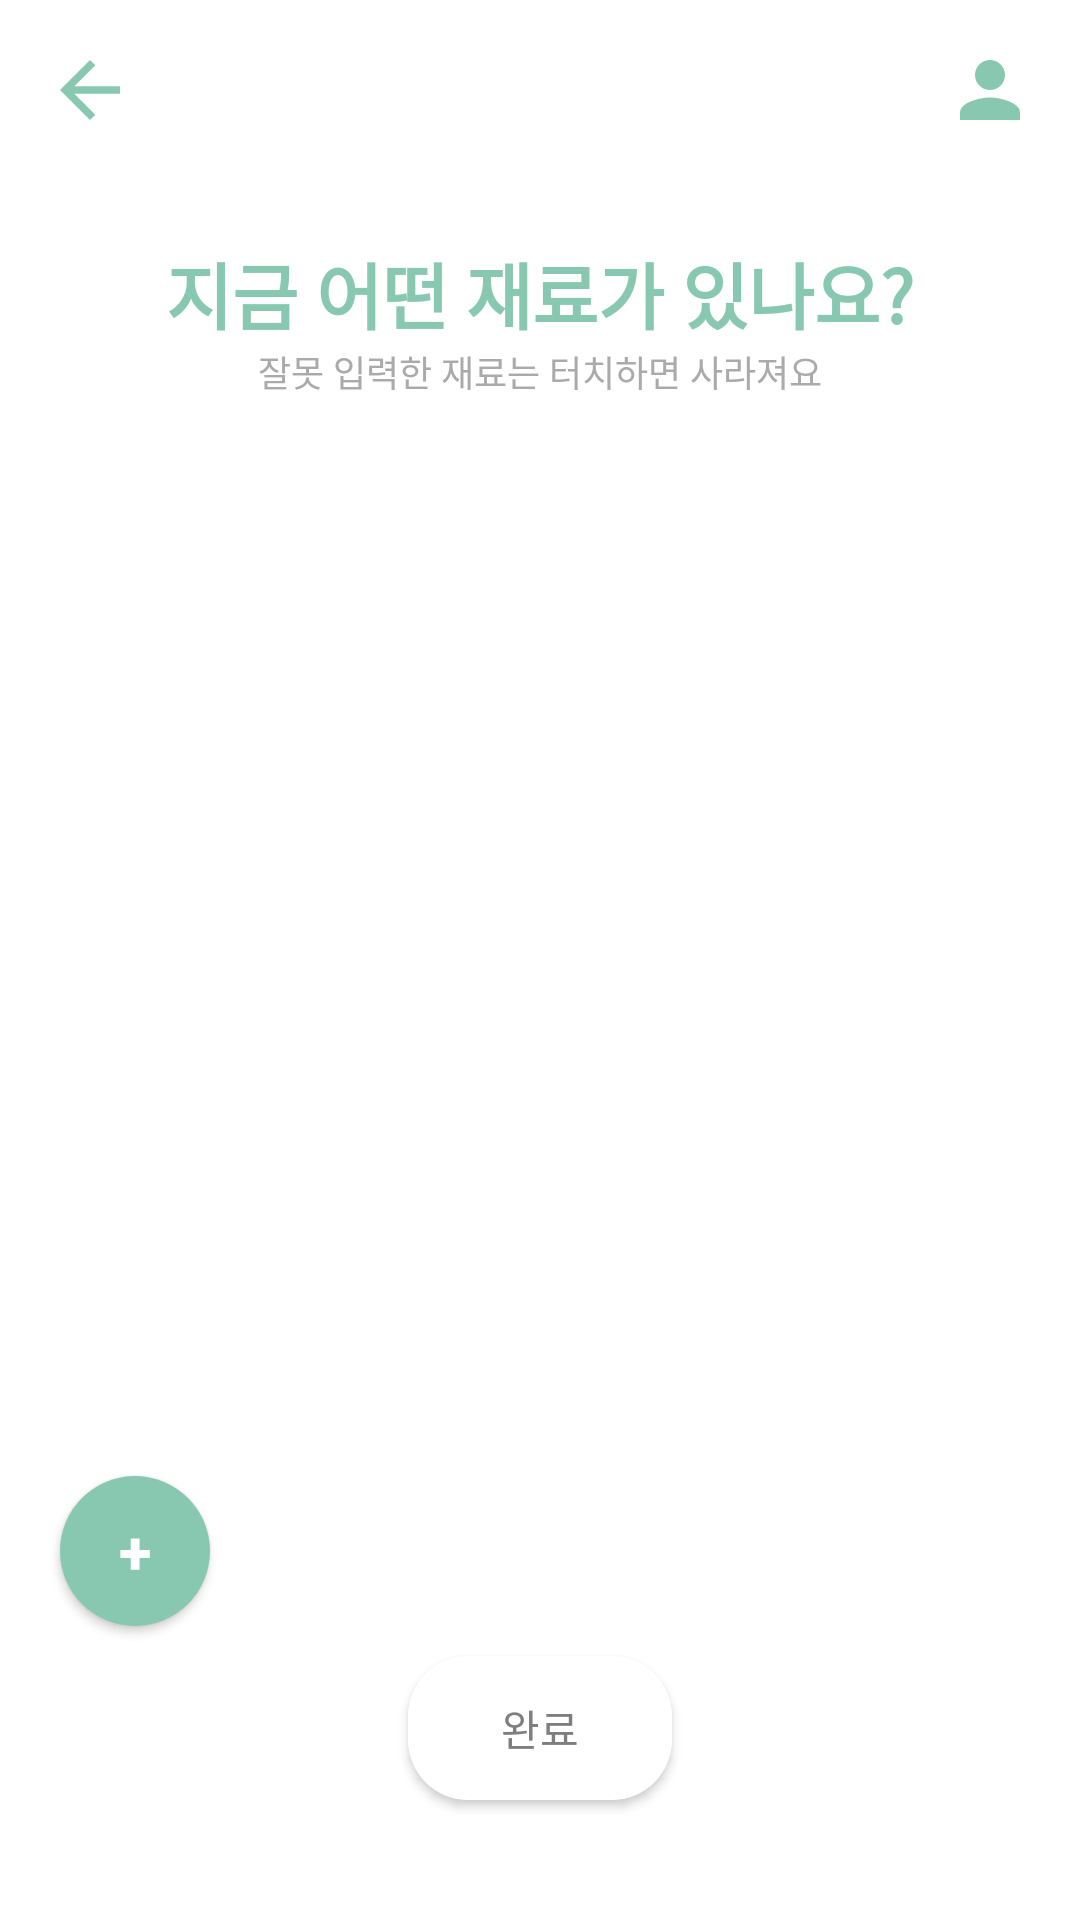

Icons on this 1080w x 1920h Android screen, each with the point to tap as (x,y):
arrow back: (90,90)
person: (990,90)
